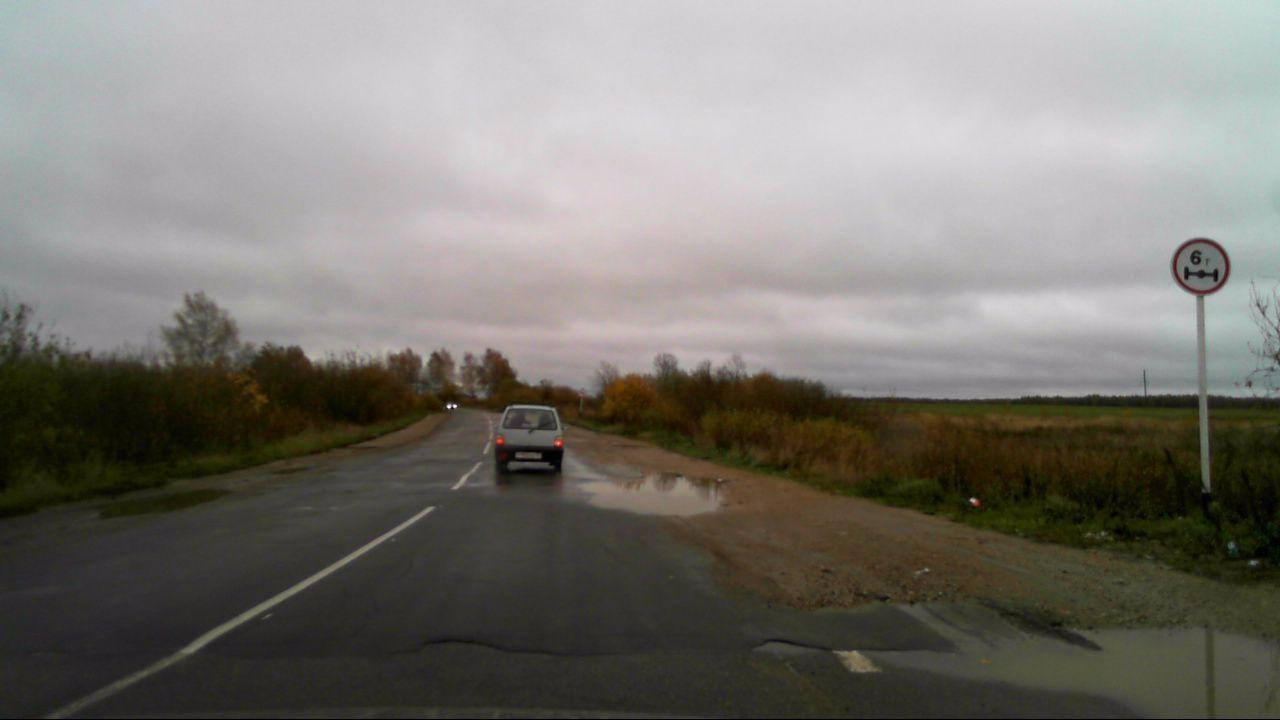3_12: (1171, 237, 1231, 297)
